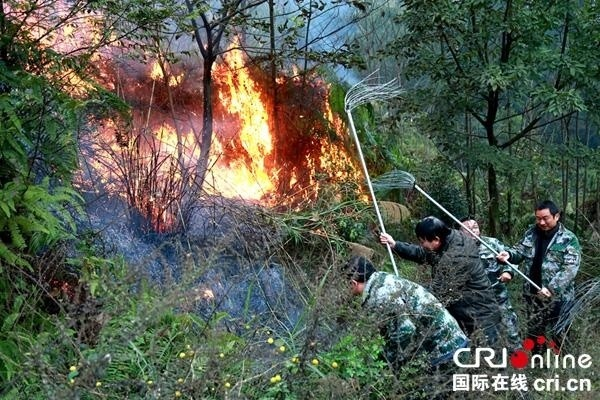fire: (11, 17, 312, 216)
